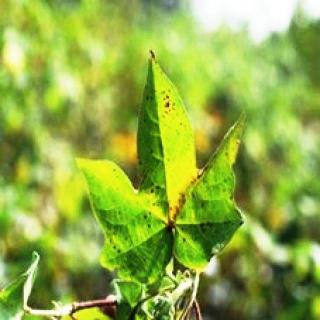leaf spot: (80, 59, 248, 282)
